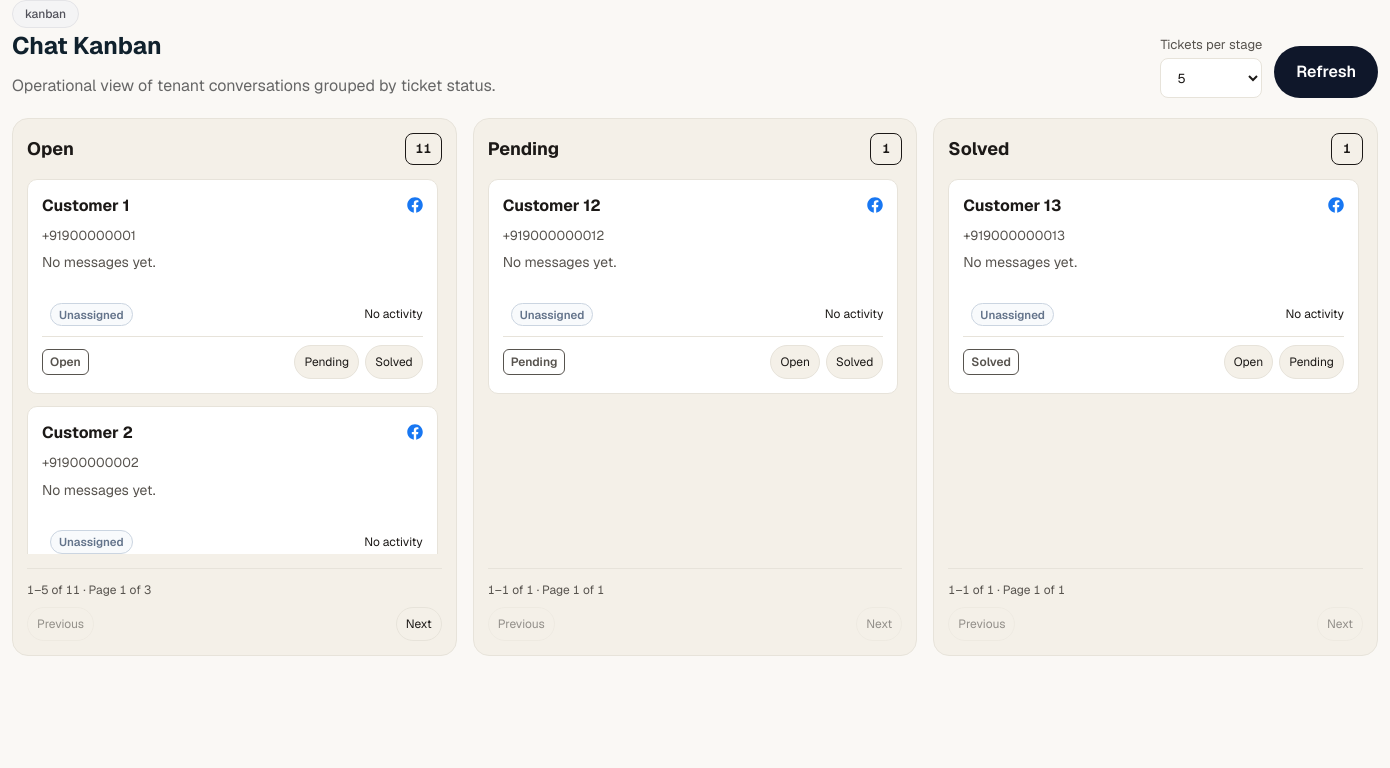
paginates each stage independently and changing page size resets pages
The image size is (1390, 768).
Check: the text "Customer 1" is shown, box x1=42 y1=194 x2=130 y2=218
Check: the text "Customer 6" is not shown
Click the button with aria-label "Open next page": (419, 624) x1=396 y1=607 x2=442 y2=641
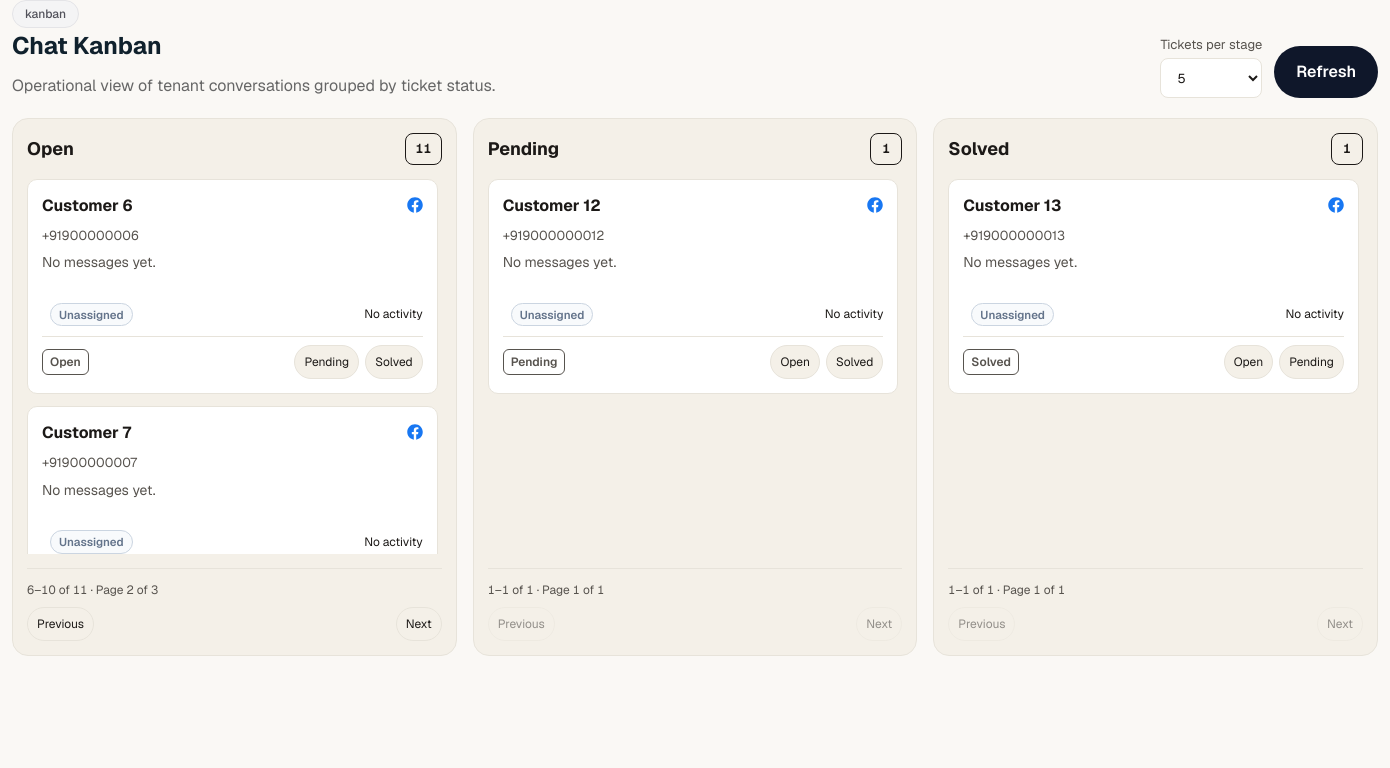
Check: the text "Customer 12" is shown, box x1=503 y1=194 x2=601 y2=218
Check: the text "Customer 6" is shown, box x1=42 y1=194 x2=133 y2=218
Select "10" in the dropdown labelled "Tickets per stage": (1211, 78) x1=1160 y1=58 x2=1262 y2=98
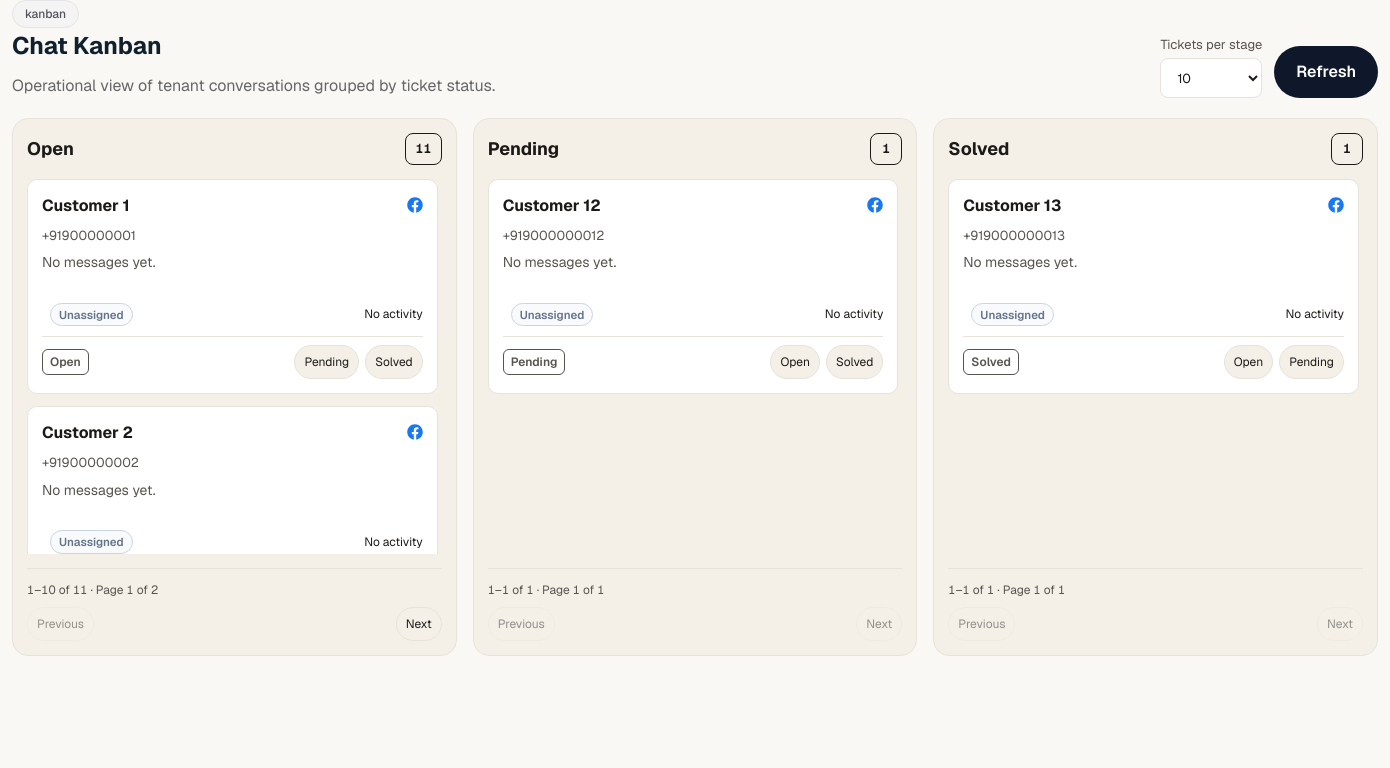
Check: the text "Customer 1" is shown, box x1=42 y1=194 x2=130 y2=218
Check: the button with aria-label "Open previous page" is disabled, box x1=27 y1=607 x2=94 y2=641
